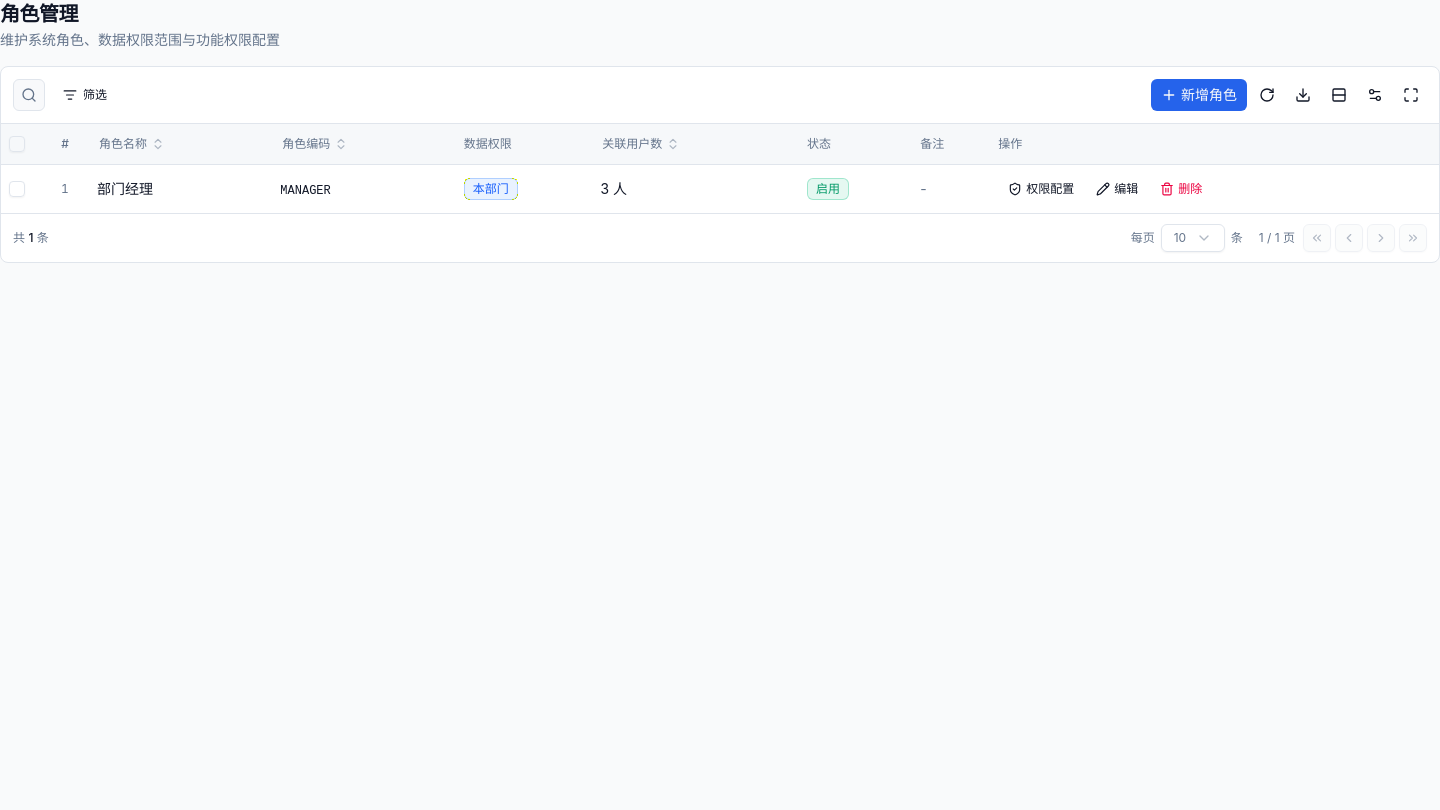
角色详情 Sheet（四 Tab） › 编辑 → Sheet 四 Tab 渲染 + 字段权限 Tab 落真（P3）
The width and height of the screenshot is (1440, 810).
Step 1. Click the button "编辑" → click(1117, 188), box [1086,174,1148,202]
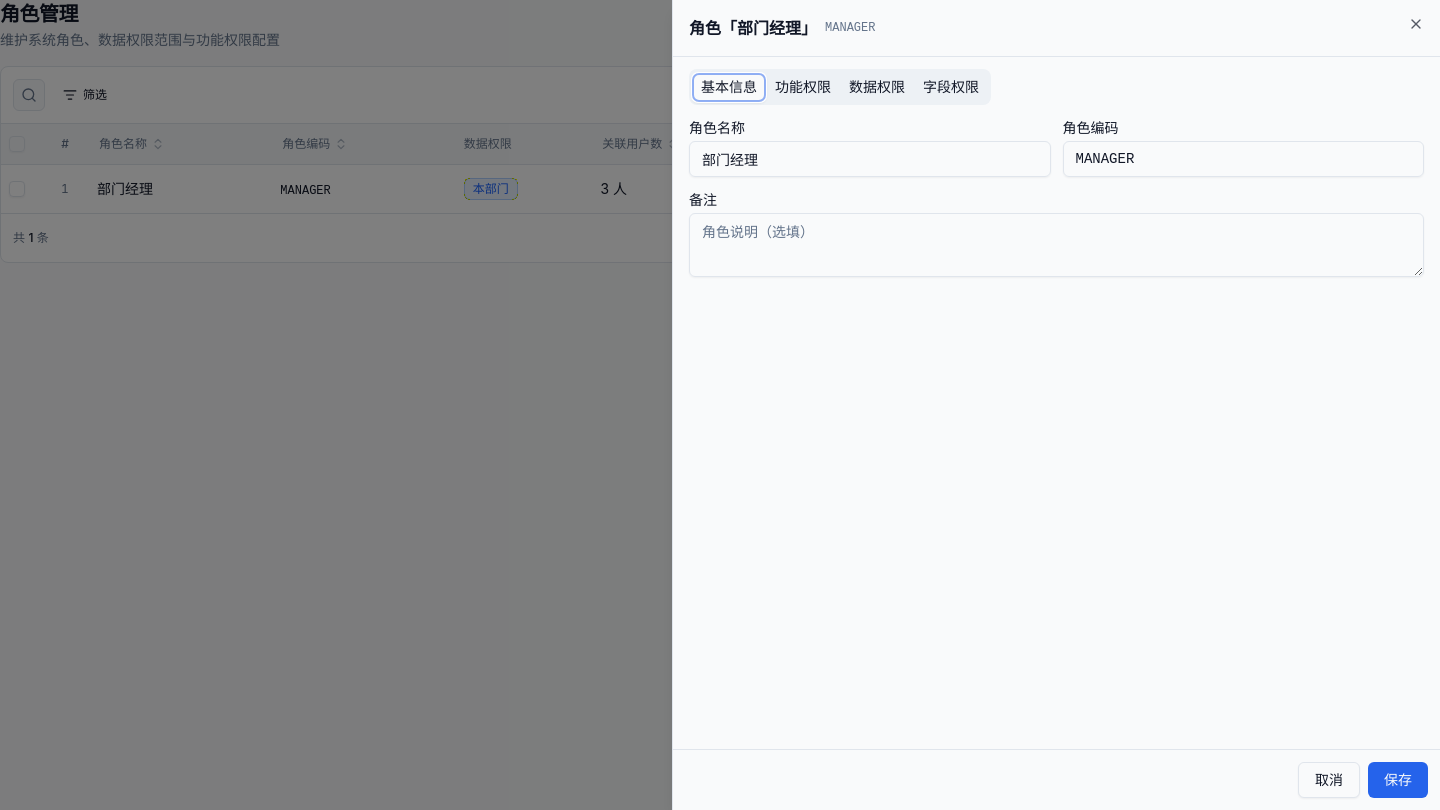
Expected: the heading "角色「部门经理」 MANAGER" is shown, [689,18,876,38]
Expected: the tab "基本信息" is shown, [692,72,766,102]
Expected: the tab "功能权限" is shown, [766,72,840,102]
